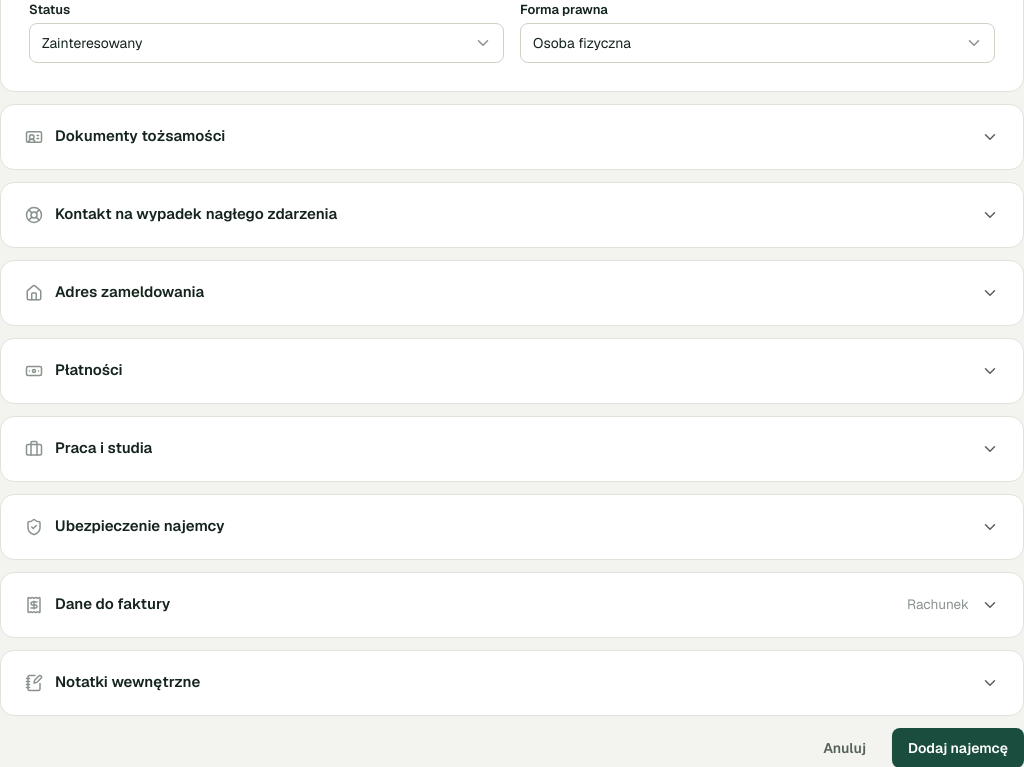
Test: TenantForm — dane do faktury › bez adresu zameldowania nie ma czego kopiować
The image size is (1024, 767).
(page scrolled)
Click the button "Dane do faktury Rachunek" at (113, 604), box [1,572,1023,636]
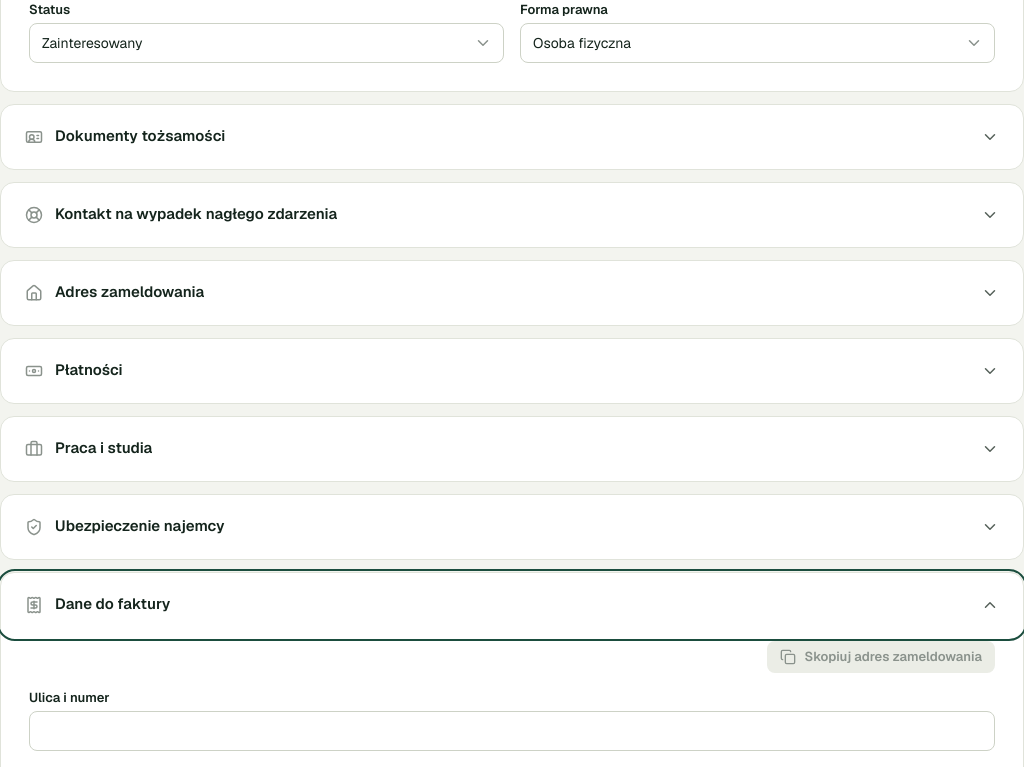
Expected: the button "Skopiuj adres zameldowania" is disabled, [767,640,995,672]
